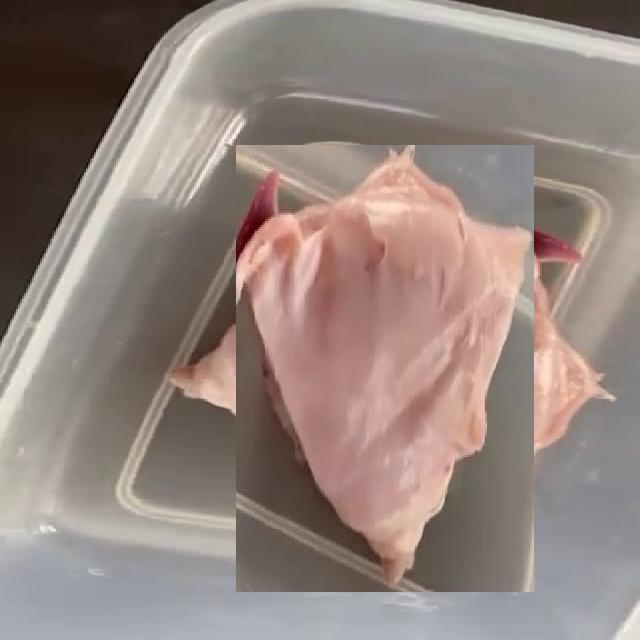chicken: (198, 183, 572, 555)
